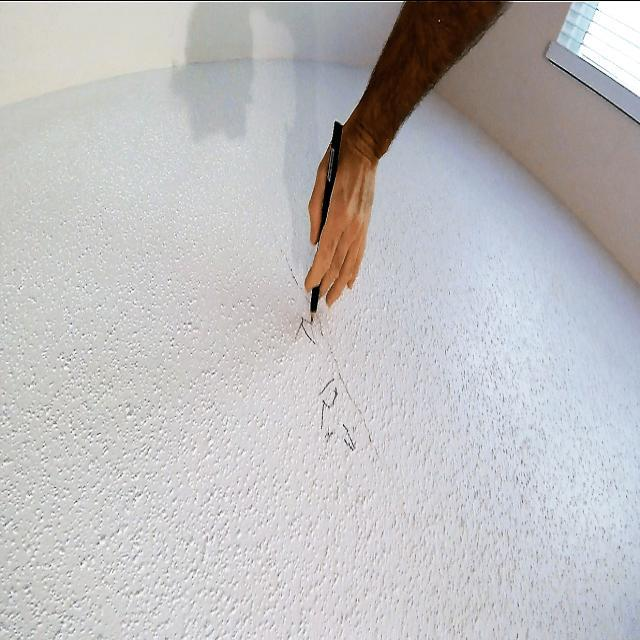Crack: (316, 314, 374, 449), (268, 218, 310, 314)
